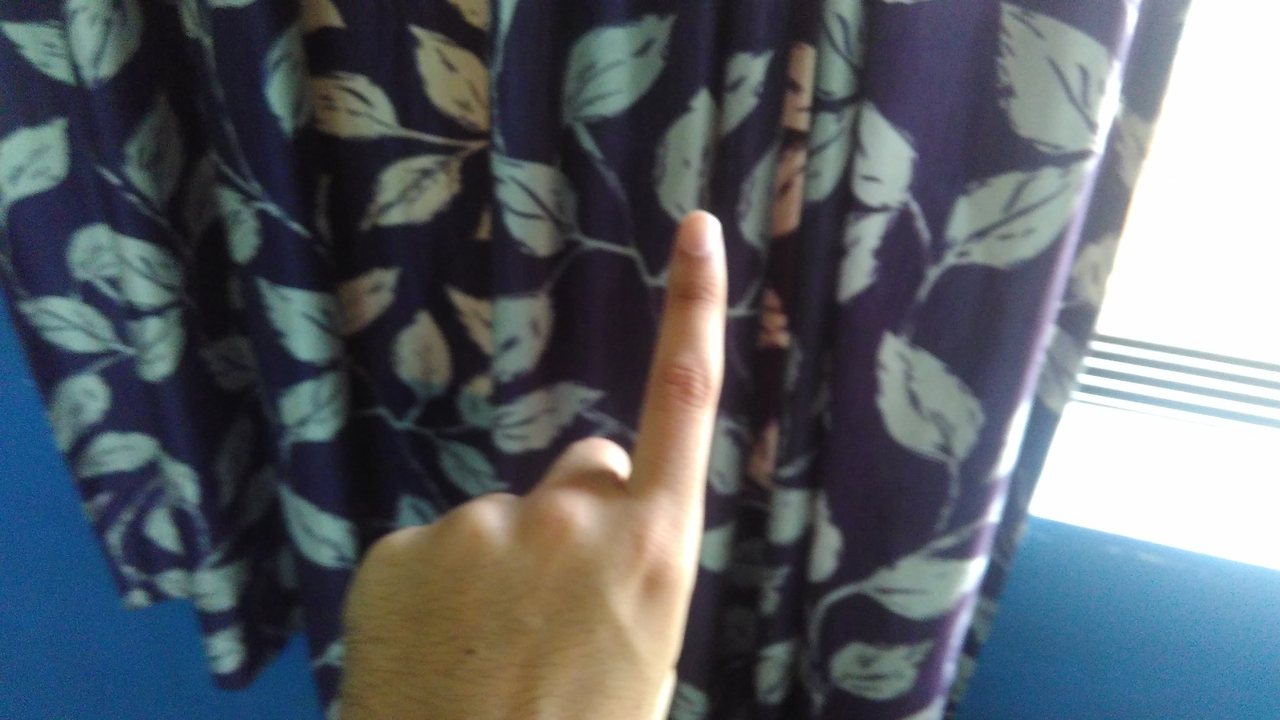fingertip: (668, 200, 726, 274)
